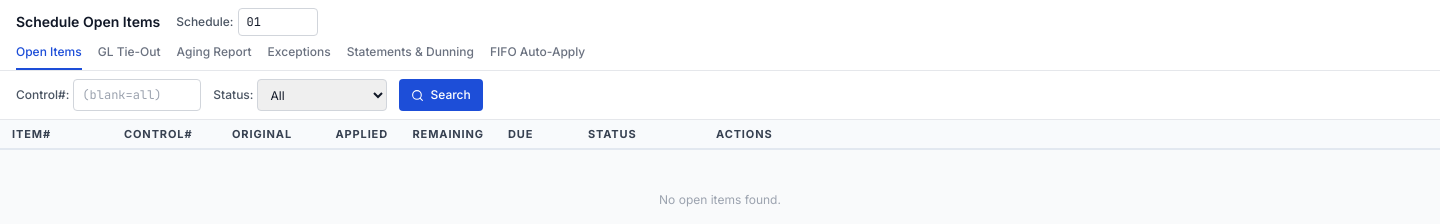
Test case: ScheduleOpenItems — CE-08 ceremony actions › S028 FIFO Auto-Apply: validation disables actions until control# and amount are present
The width and height of the screenshot is (1440, 224).
What coordinates should you click on to do the following:
click the button with test id "auto-apply-tab-button"
I would click on:
 (538, 57)
Its box is [490, 44, 585, 70].
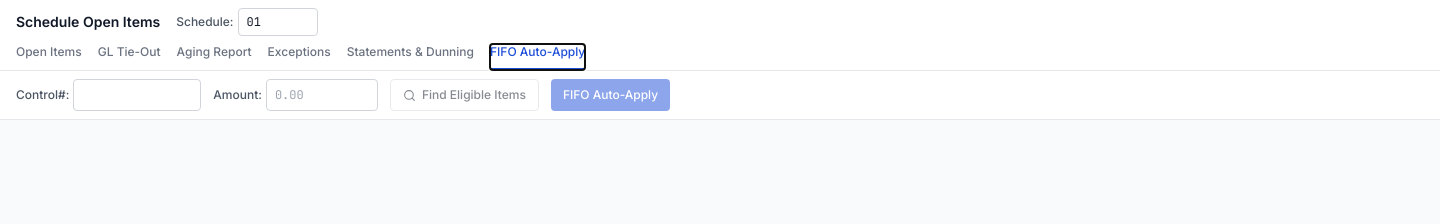
Check: the button with test id "auto-apply-search-button" is disabled, box [390, 79, 539, 111]
Check: the button with test id "auto-apply-open-confirm-button" is disabled, box [551, 79, 670, 111]
